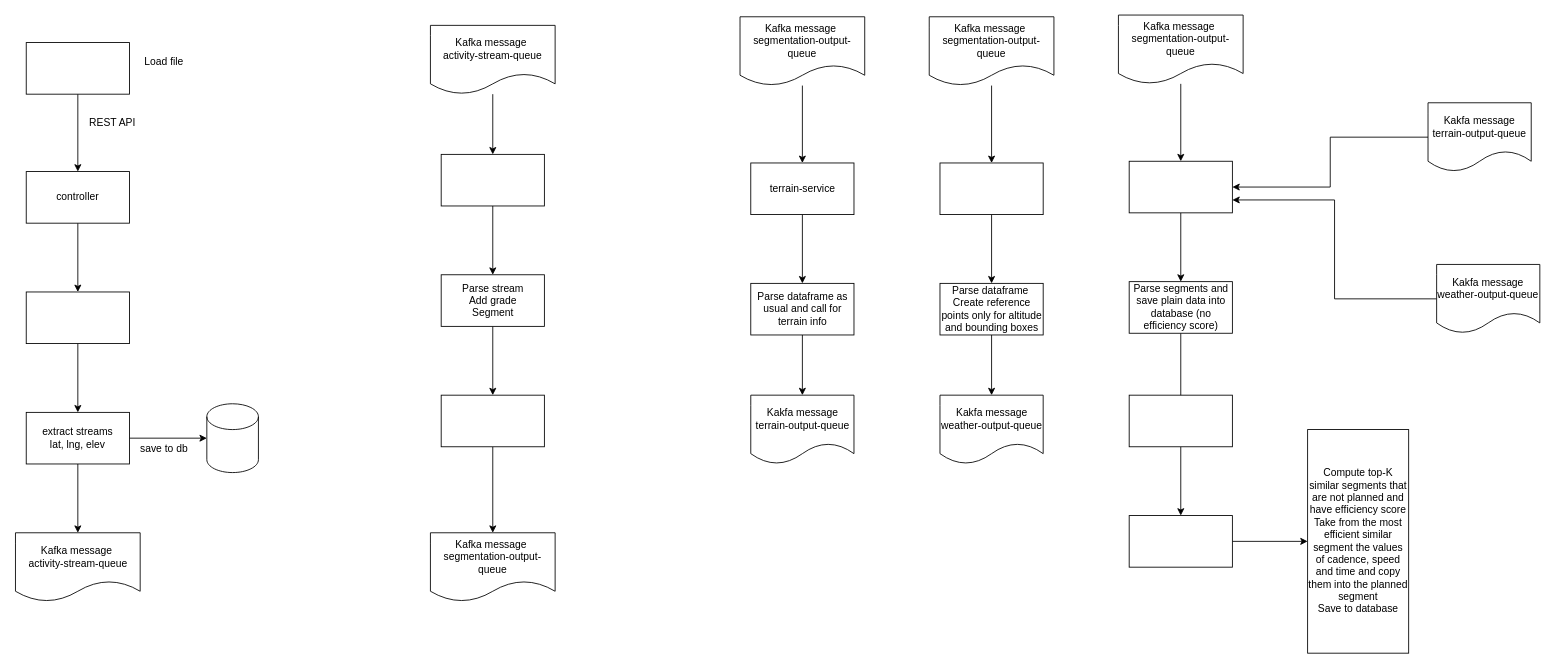
The diagram is 1555 pixels wide and 668 high, and some of its shapes have lost their labels. The shapes that lost their labels are listed below. From the top down, each one's box as (x1, y1, x2, y2) in pixels, then its label:
(25, 42, 129, 94): frontend
(440, 154, 544, 206): segmentation-service
(939, 162, 1043, 215): weather-service
(1128, 160, 1232, 213): efficiency-service
(25, 291, 129, 344): parse gpx file into data stream
(206, 403, 258, 473): db
(440, 394, 544, 447): Handle missing columns
(1128, 394, 1232, 447): Handle terrain and weather data as usual
(1128, 515, 1232, 567): When activity status is ready, run recommendation service
